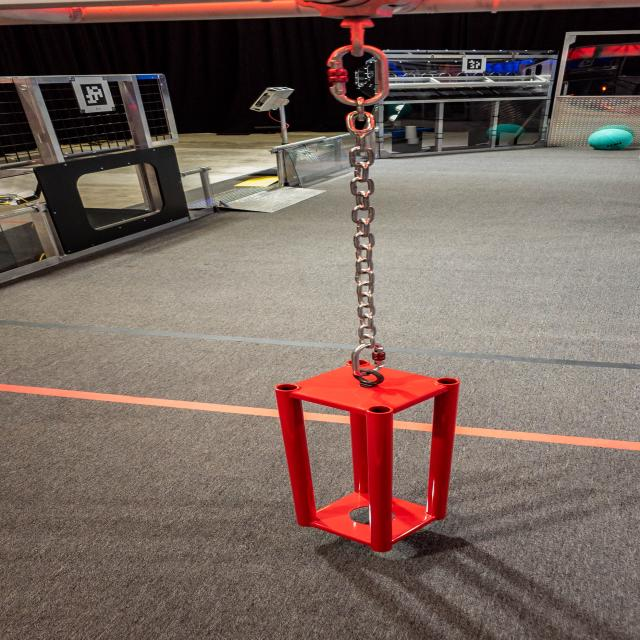Algae: (588, 129, 633, 150)
